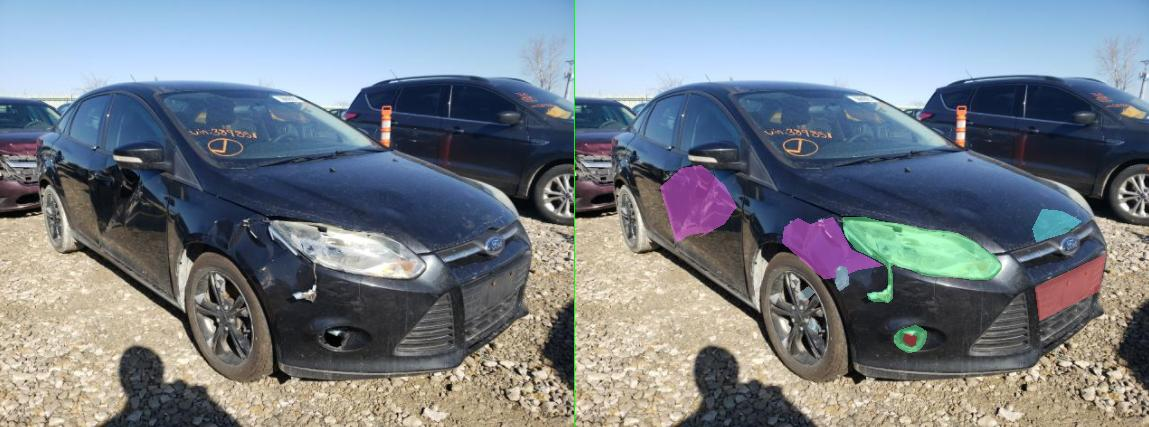Broken part: (536, 217, 851, 302), (639, 325, 703, 352)
Corrosion: (520, 266, 546, 290), (444, 286, 478, 300), (466, 317, 486, 333)
Dent: (414, 217, 615, 278), (170, 165, 322, 242)
Flaking: (915, 209, 1013, 241)
Missing part: (921, 254, 1061, 320), (657, 334, 683, 346)
Scratch: (484, 218, 540, 247)
